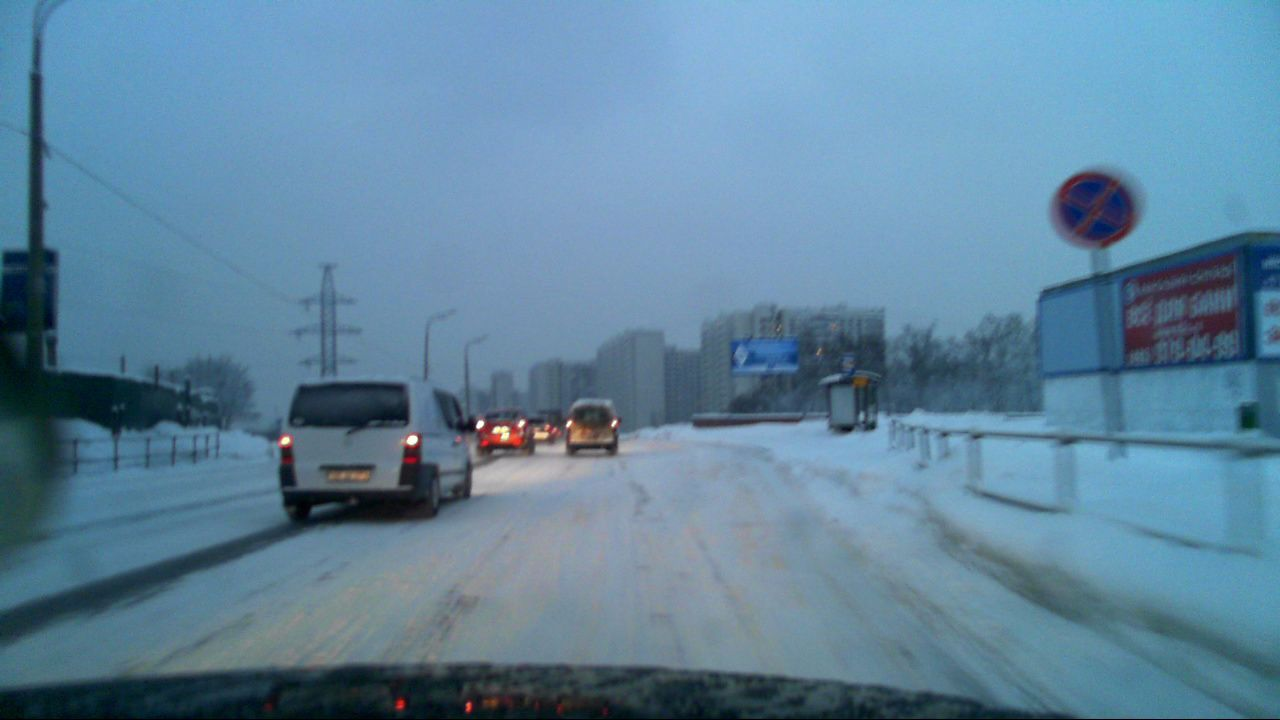No Parking: (1052, 164, 1135, 248)
